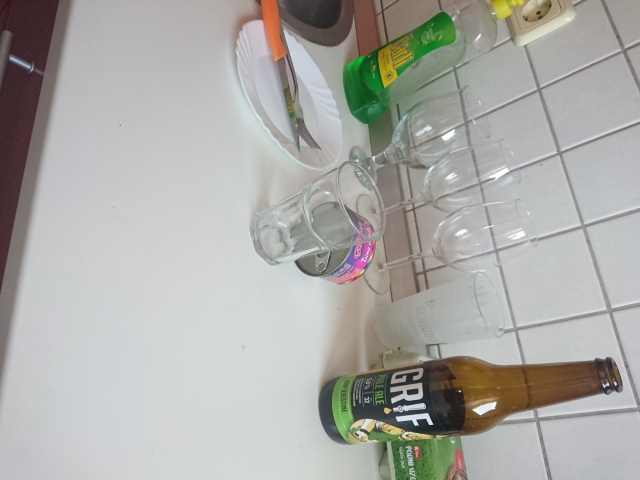Giana Tuna Salad Mexico 185g: (289, 199, 378, 287)
